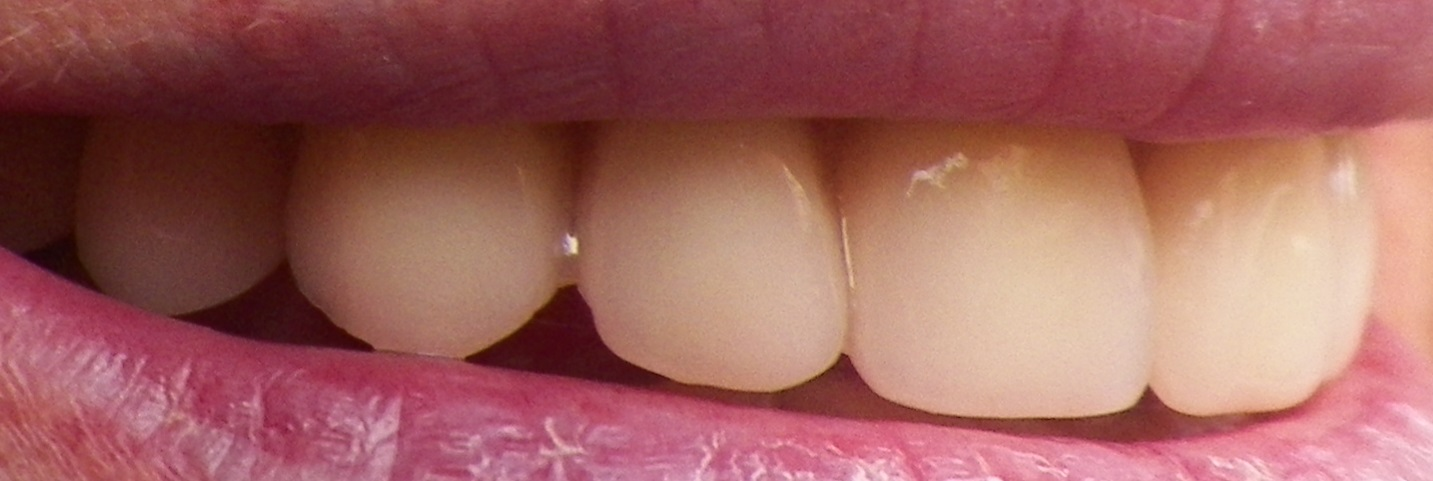boca: (12, 105, 1414, 434)
